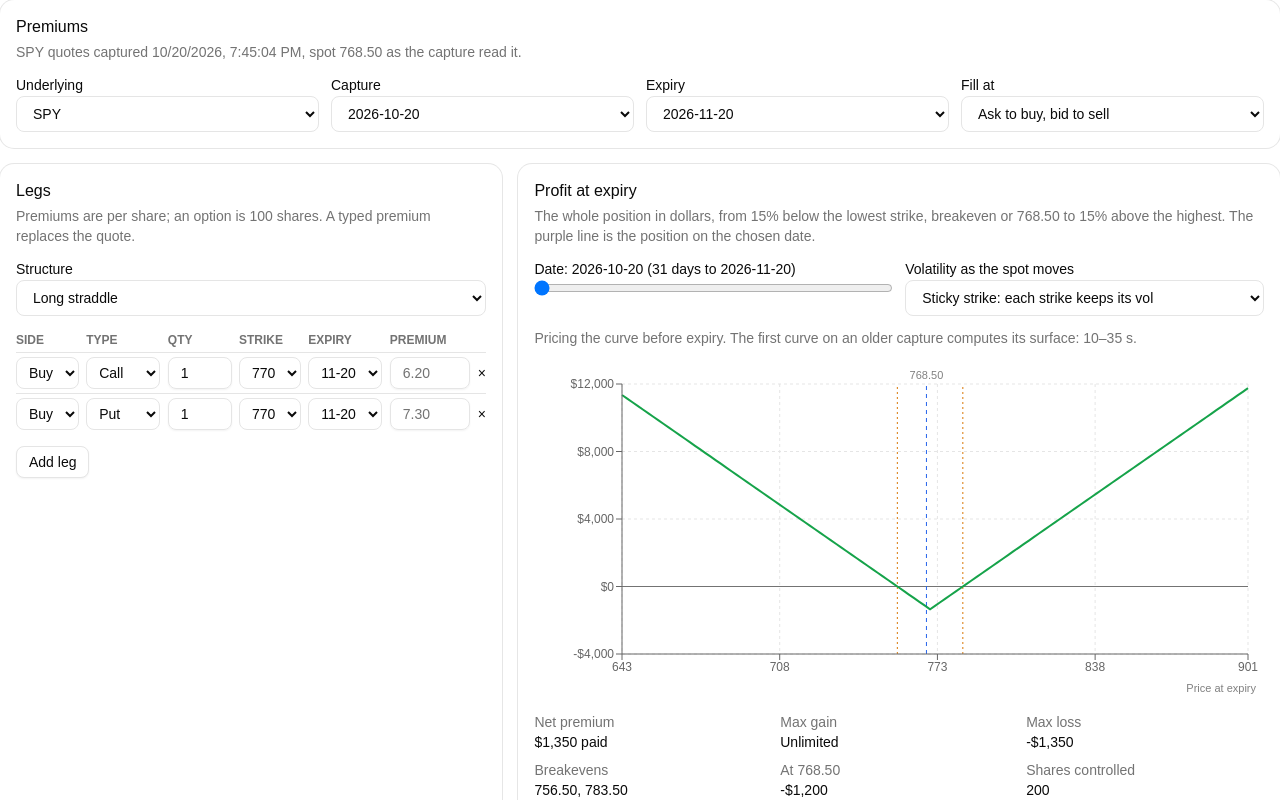
it: PayoffPage › lets a typed premium replace the quote
This screenshot has width=1280, height=800.
In the number field named "Leg 1 premium": (430, 373) x1=390 y1=357 x2=470 y2=389, type "5"
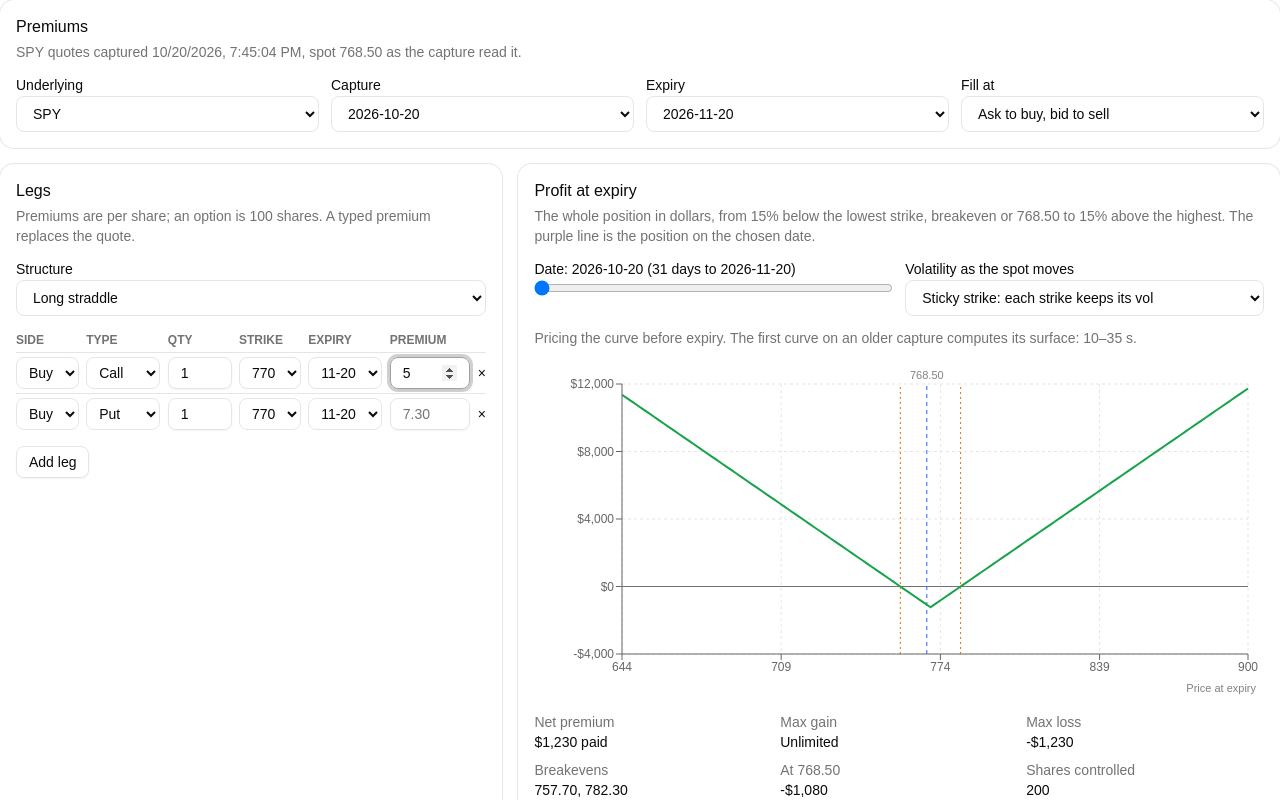
Expected: the text "$1,230 paid" is shown, x1=534 y1=734 x2=608 y2=750
